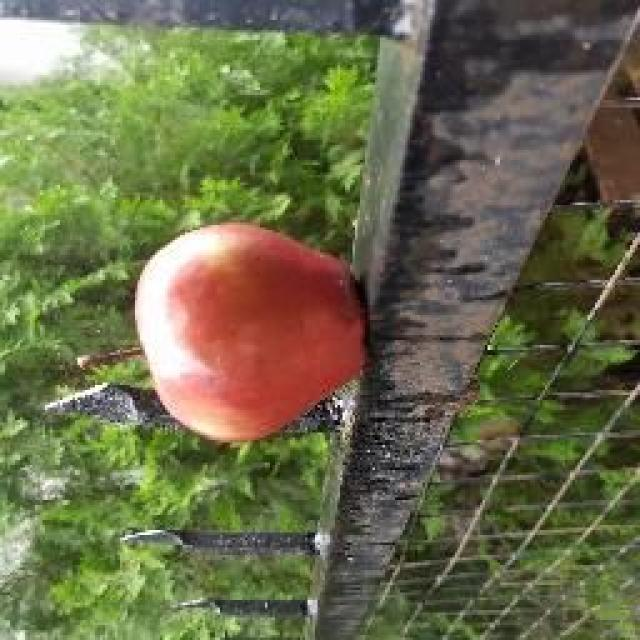Good_Apple: (132, 222, 368, 445)
